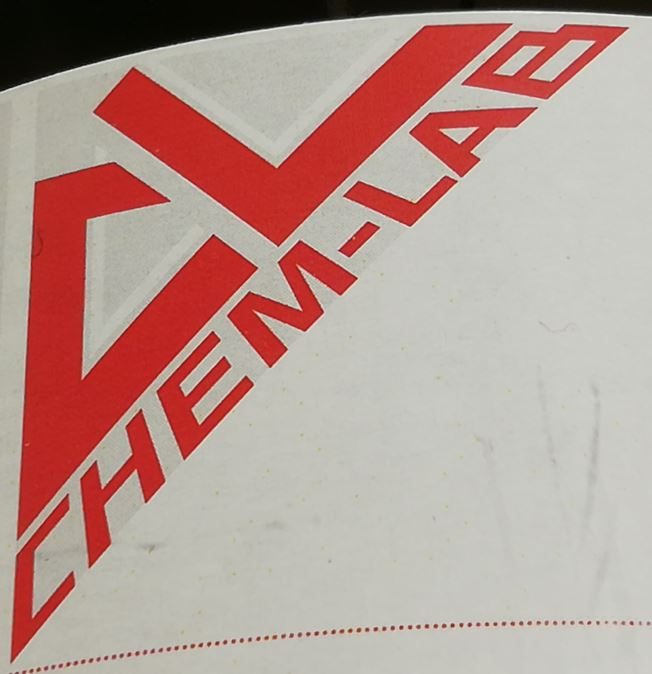ChemLab: (8, 23, 632, 664)
